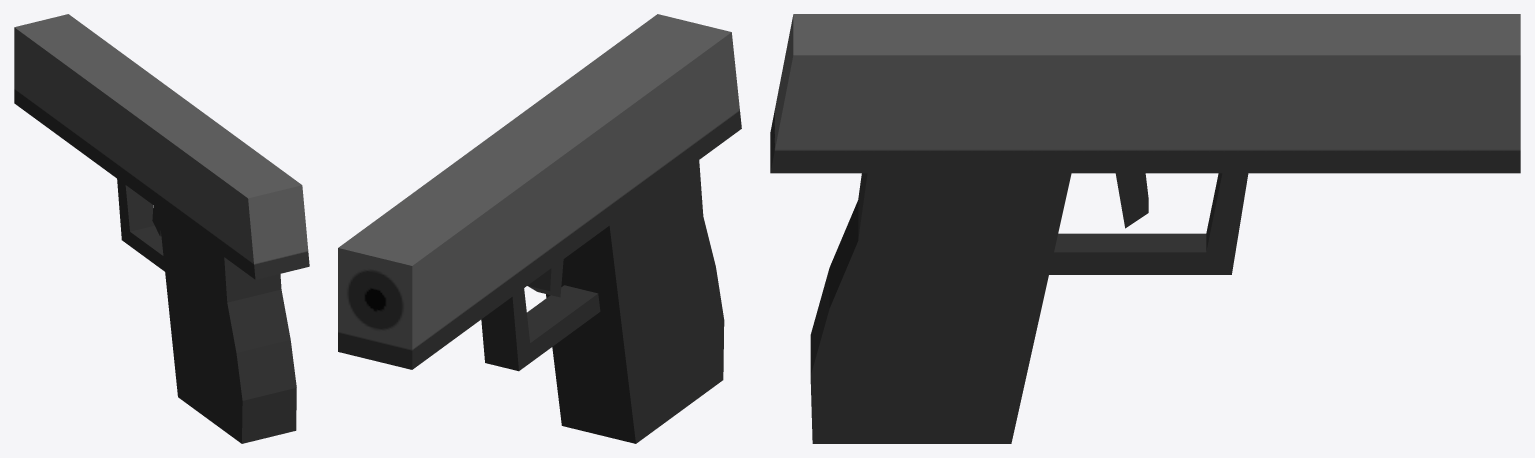
The model's file is Pistola.fbx.
The picture shows the model from 3 angles, left to right: view 1: azimuth 30°, elevation 25°; view 2: azimuth 150°, elevation 25°; view 3: azimuth 270°, elevation 25°; orthographic projection. The views are drawn at different scales.
Visible parts, largest first — view 1: Pistola; view 2: Pistola; view 3: Pistola.
Part boxes in pixels (x1,y1,x2,y2): Pistola: (14, 14, 309, 443); Pistola: (338, 14, 741, 443); Pistola: (770, 14, 1520, 443).
Bounding box in the file's own units: 58.47 × 258 × 450.
